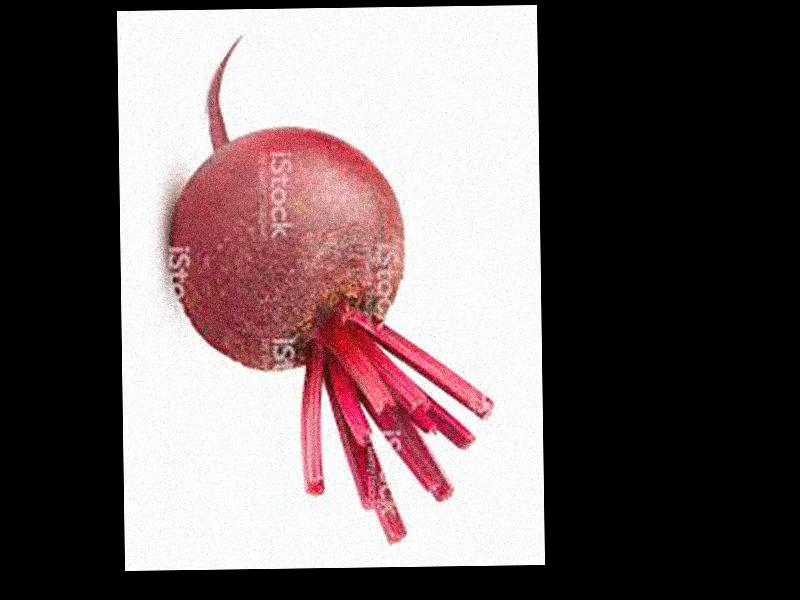Beet: (169, 32, 494, 546)
